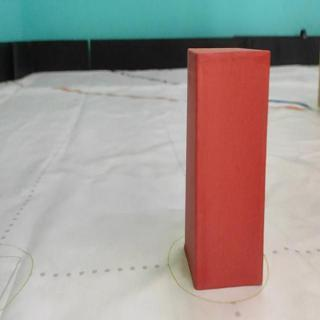redbox: (183, 47, 270, 291)
